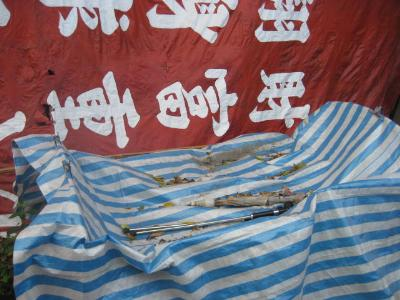plastic_bag: (10, 99, 399, 300)
